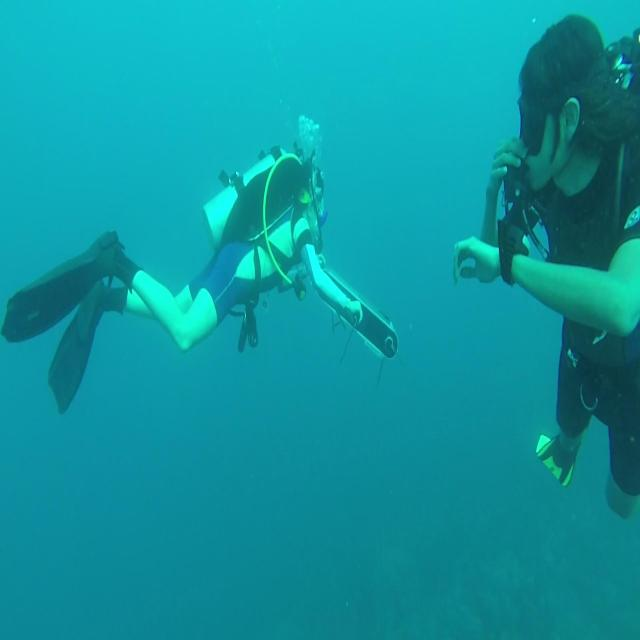human: (1, 140, 396, 414), (452, 13, 640, 519)
